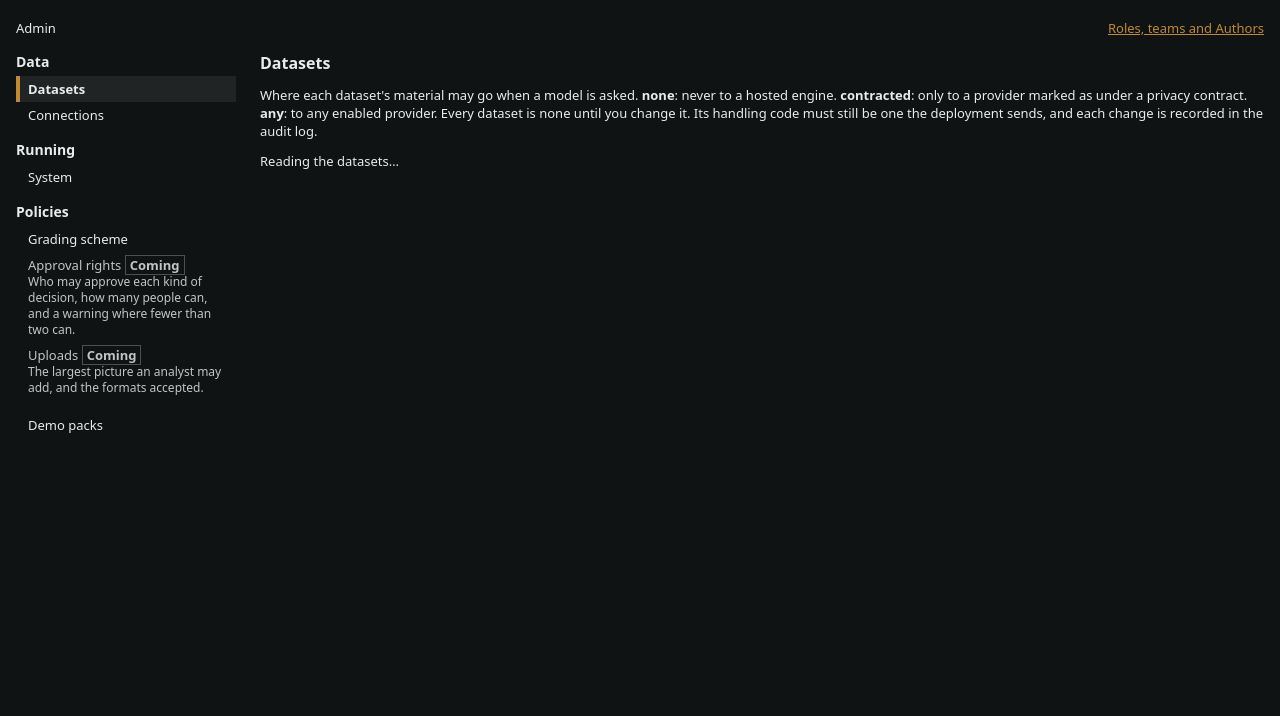
Scenario: Admin's words: roles by name, never people or ids › in Connections: its fields' tips and a refusal by the roles that hold the right
The image size is (1280, 716).
Click the button "Connections". click: [128, 115]
box: 20,102 -> 236,128
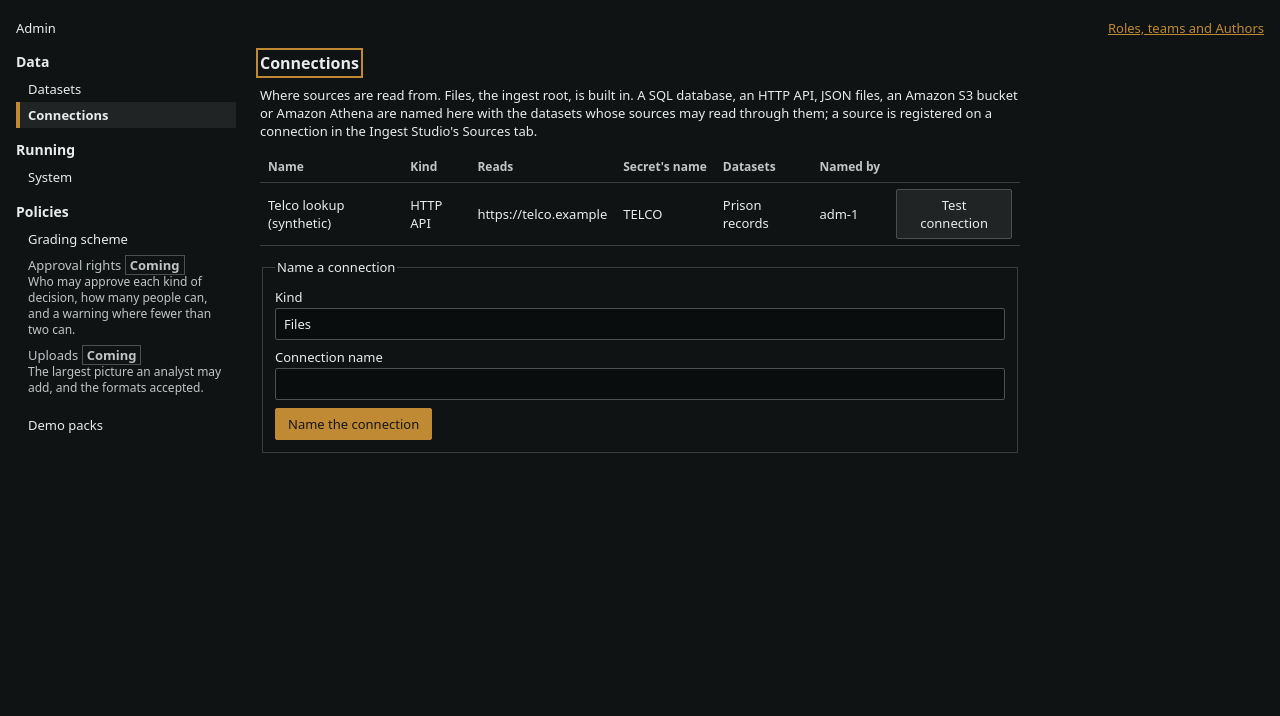
Click the button with aria-label "Test connection: Telco lookup (synthetic)". click: [954, 214]
box: 896,189 -> 1012,239
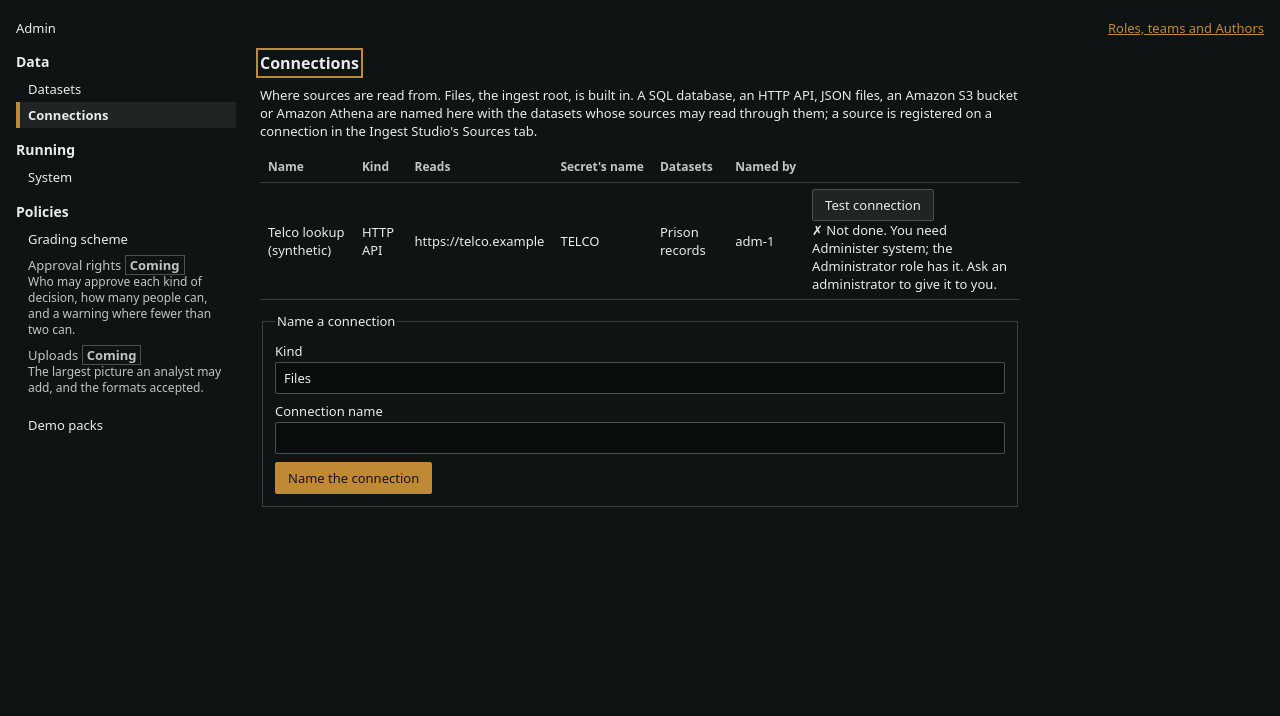
Expected: the text "the Administrator role has it" is shown, 812,221 -> 1007,293
Select "SQL database" in the dropdown labelled "Kind". click: [640, 378]
box: 275,362 -> 1005,394
(page scrolled)
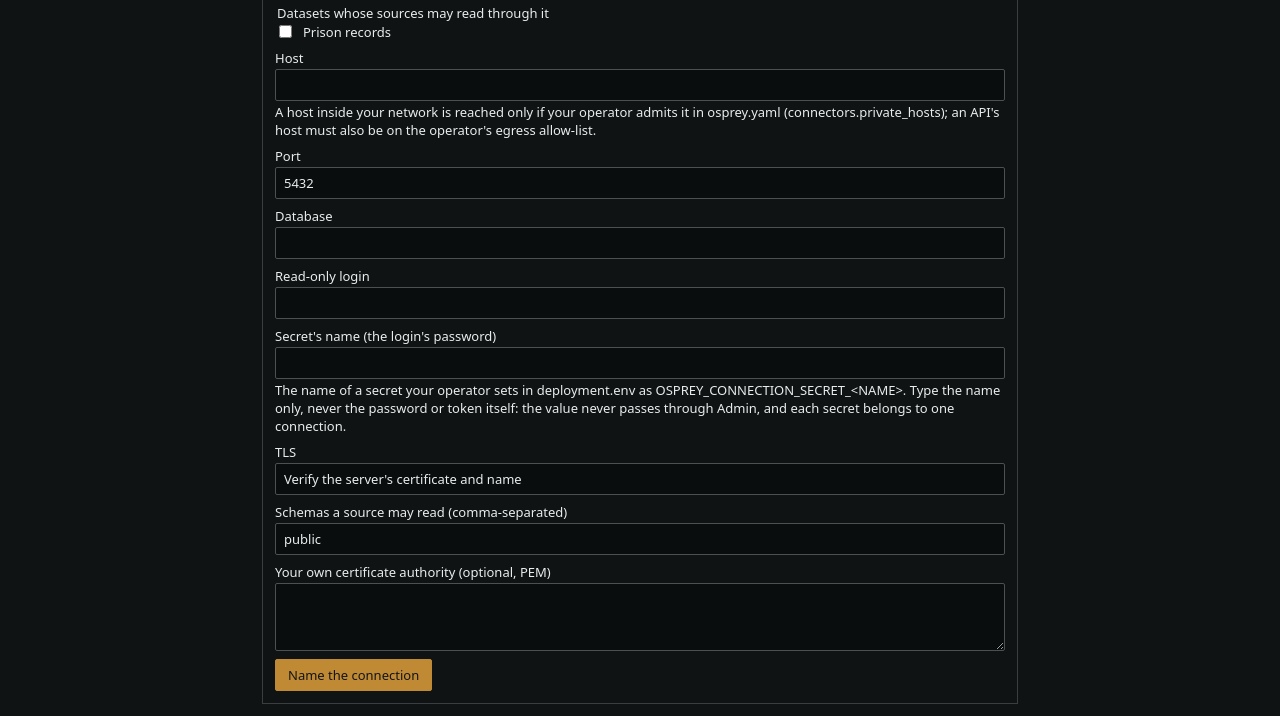
Click the button "Name the connection". click: [354, 675]
box: 275,659 -> 432,691
(page scrolled)
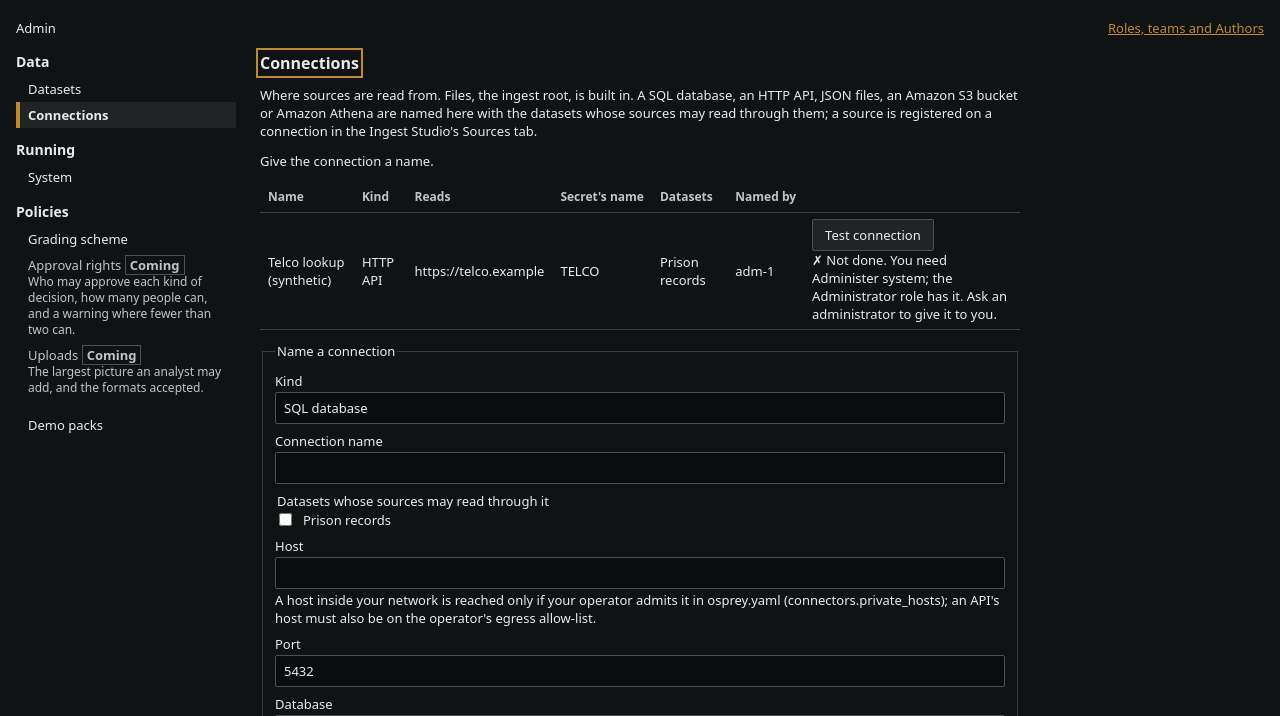
Expected: the message does not show ""
Expected: the message "Give the connection a name." is shown, 260,152 -> 434,170
